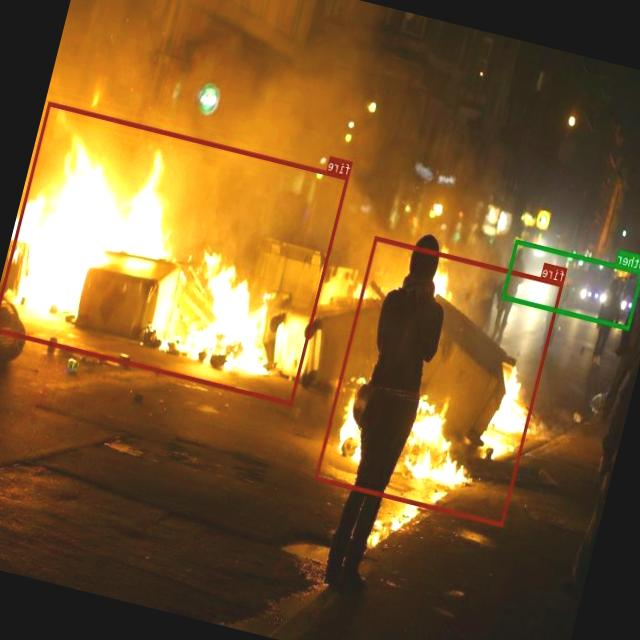fire: (0, 101, 349, 404), (316, 235, 564, 526)
